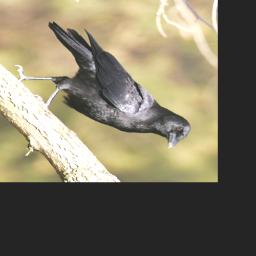Crow: (11, 21, 192, 152)
